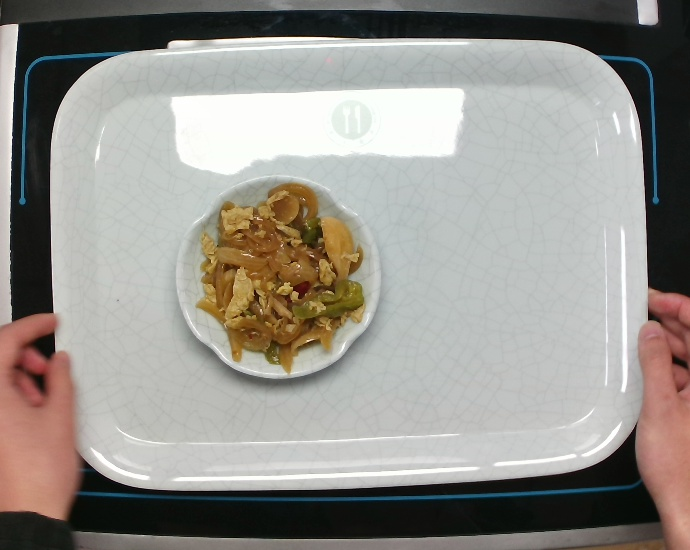JYsf-Ao_Yuan_Wan: (173, 172, 383, 382)
